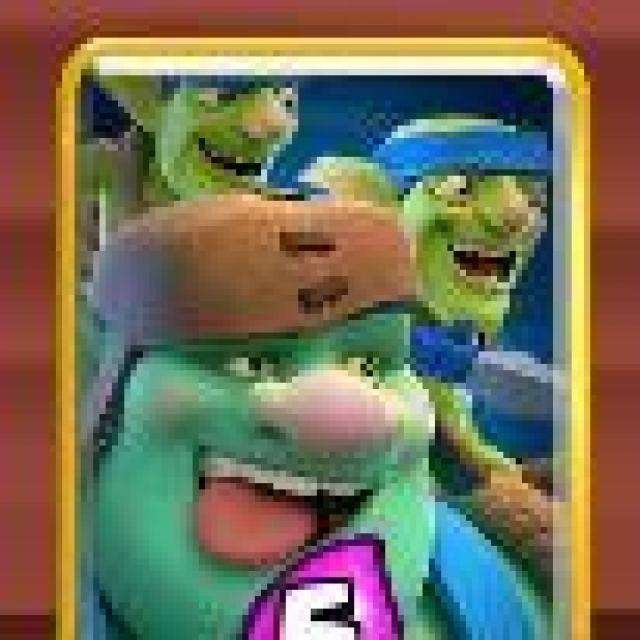Goblin_Giant: (56, 36, 591, 640)
